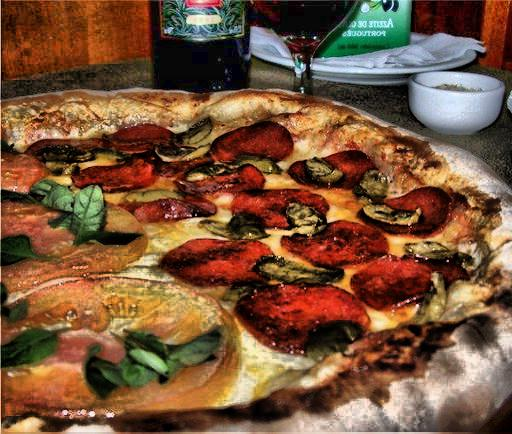pizza: (2, 92, 497, 434)
